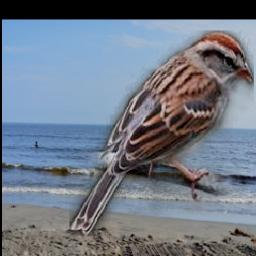Sparrow: (69, 30, 254, 236)
